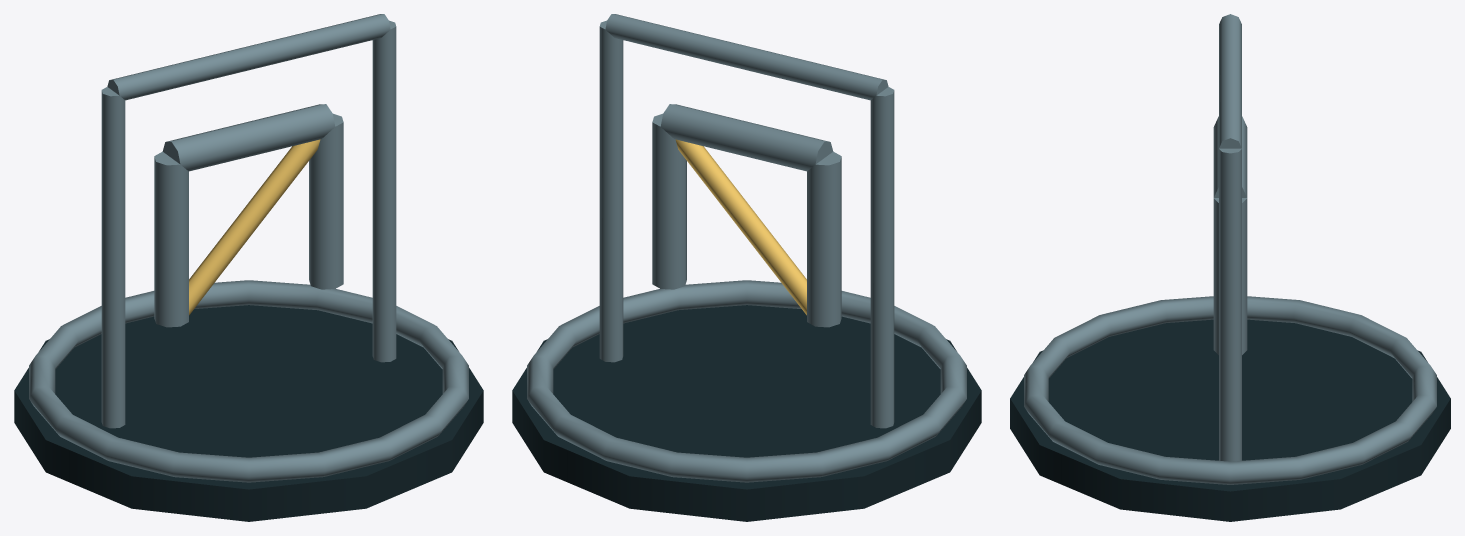
The model's file is pickup-frame.glb.
3 renders of one model, left to right at view 1: azimuth 30°, elevation 25°; view 2: azimuth 150°, elevation 25°; view 3: azimuth 270°, elevation 25°, orthographic. The views are drawn at different scales.
Parts seen in each view (by area): view 1: pickup-frame; view 2: pickup-frame; view 3: pickup-frame.
Boxes of the visible parts, x1,y1,x2,y2 form: pickup-frame: [14, 14, 483, 521]; pickup-frame: [512, 14, 981, 521]; pickup-frame: [1010, 14, 1450, 521].
Size of the model in its own units: 2.1 by 1.86 by 2.1.
